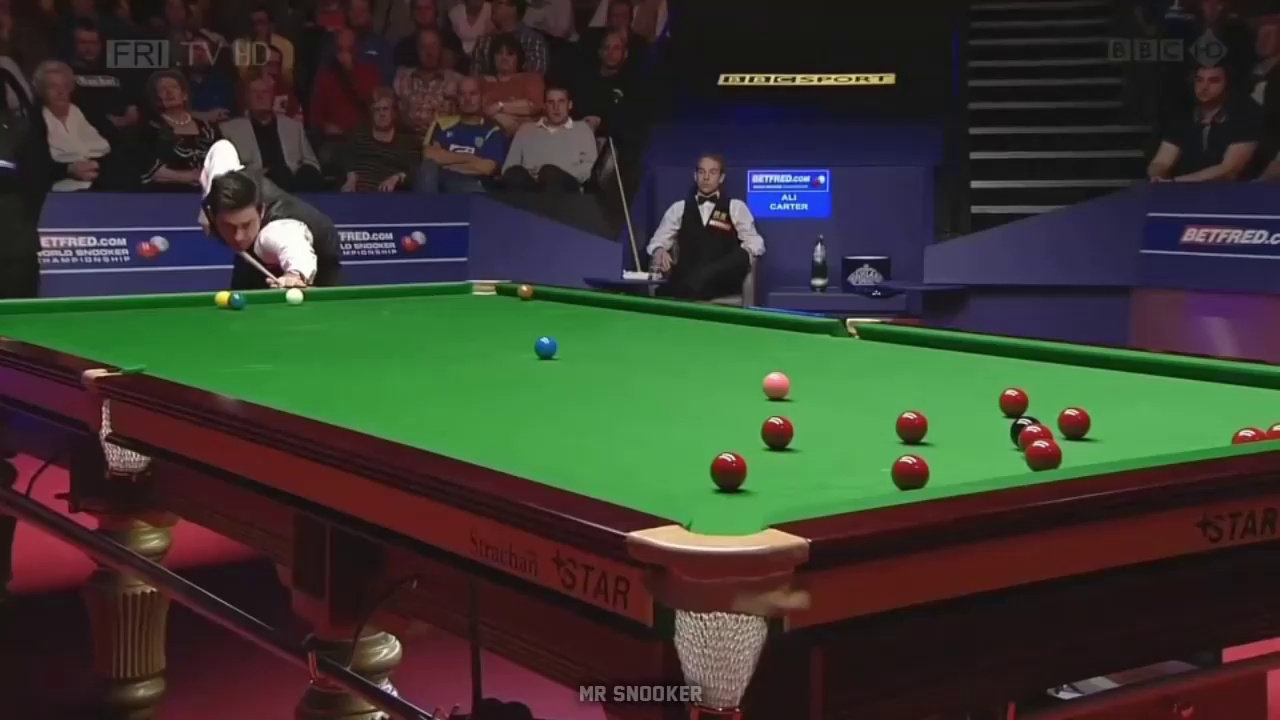blue: (535, 335, 556, 360)
green: (231, 291, 249, 309)
pink: (760, 370, 790, 399)
red: (707, 454, 749, 489), (890, 455, 928, 490), (759, 418, 794, 449), (1057, 409, 1090, 441), (894, 413, 930, 442), (1026, 441, 1060, 470), (999, 387, 1028, 417)
white: (283, 290, 306, 307)
yellow: (213, 291, 228, 307)
